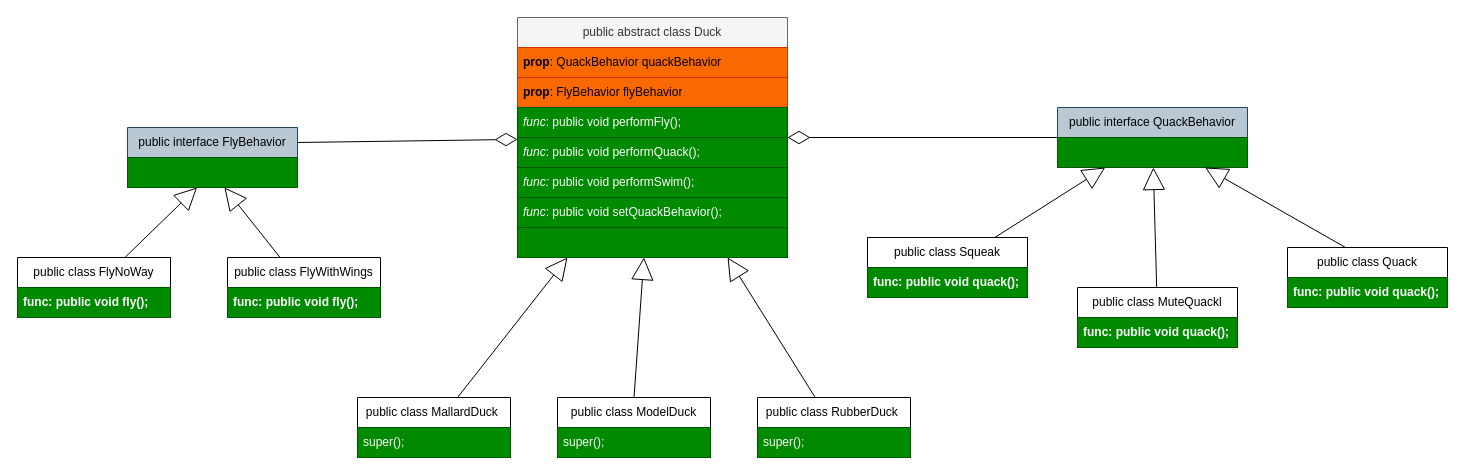
Some shapes in this 1465 by 475 pixel diagram are drawn without their labels. The shapes that lost their labels are listed below. From the top down, each one's centre as x and y in pixels, then its label:
the point at 212,172: void fly();
the point at 1152,152: void quack();
the point at 652,242: func : public void setFlyBehavior();
